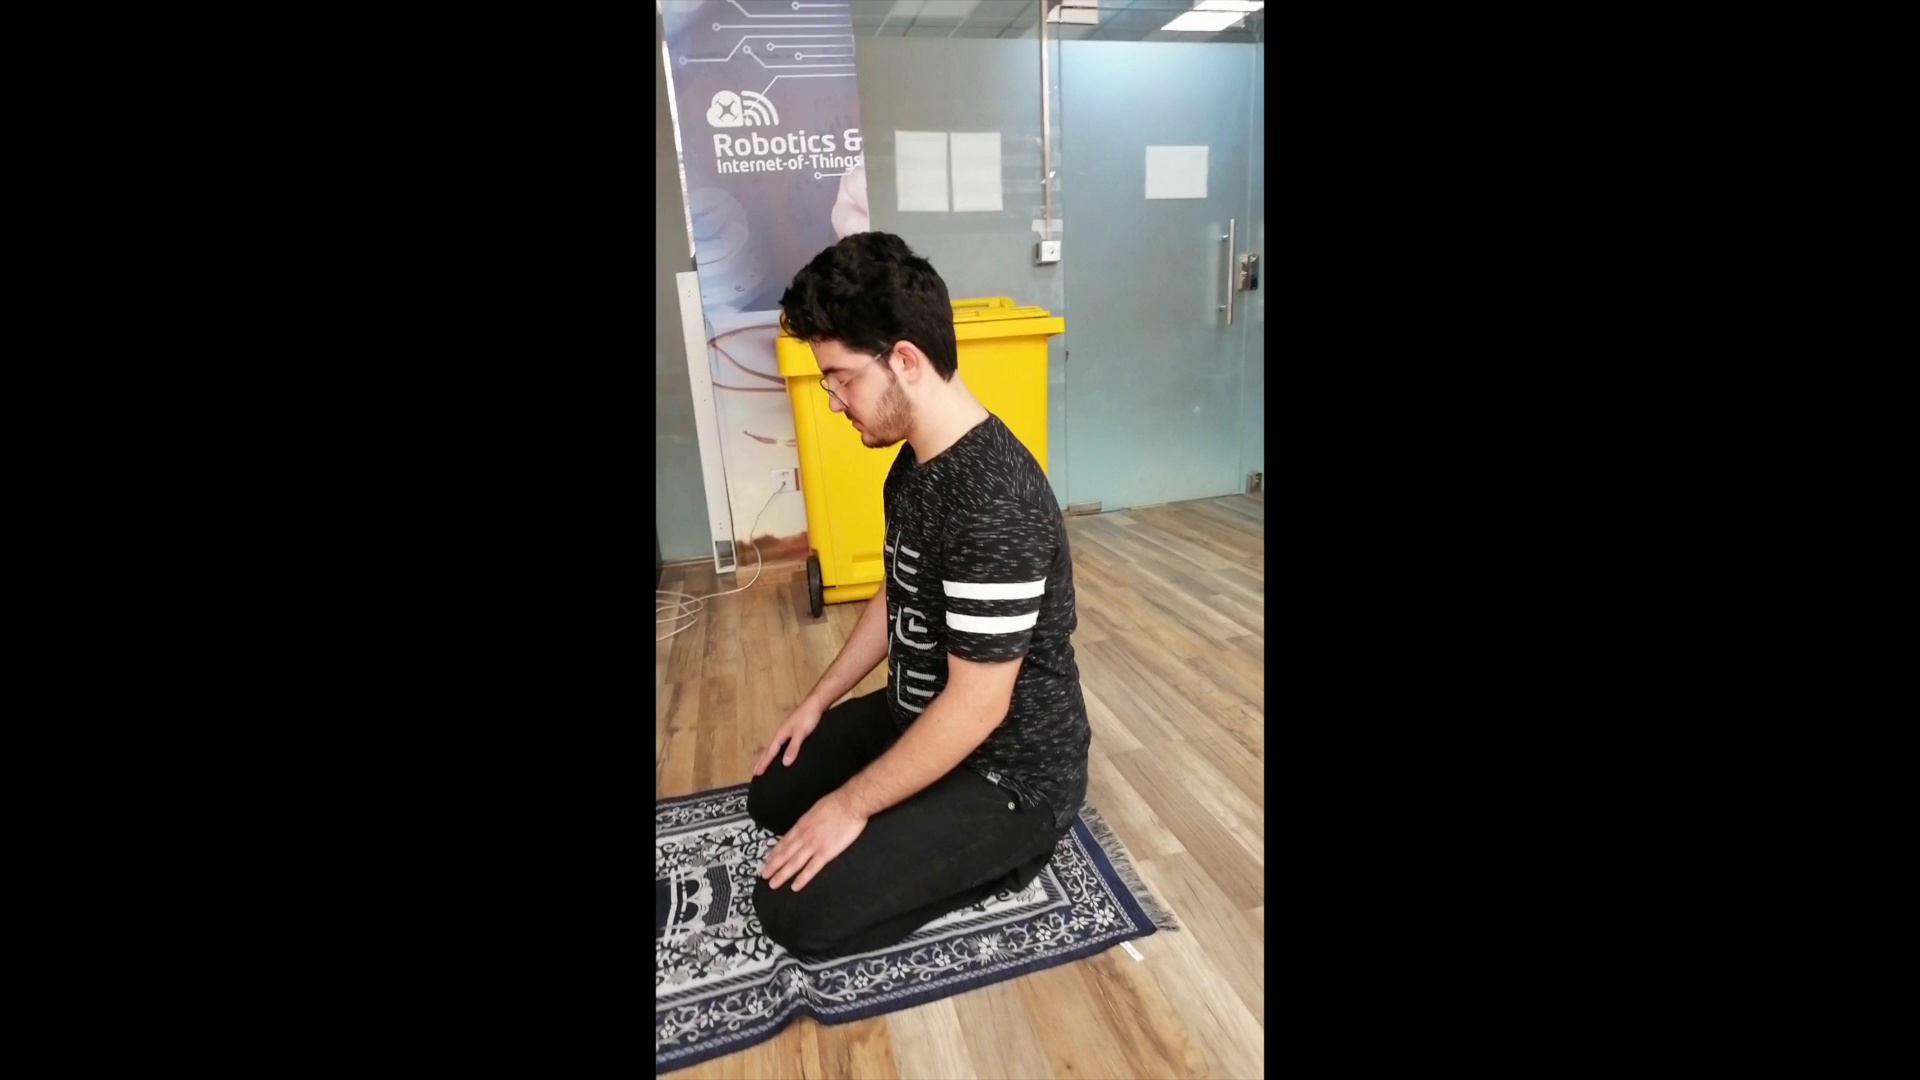sitting: (741, 225, 1095, 961)
